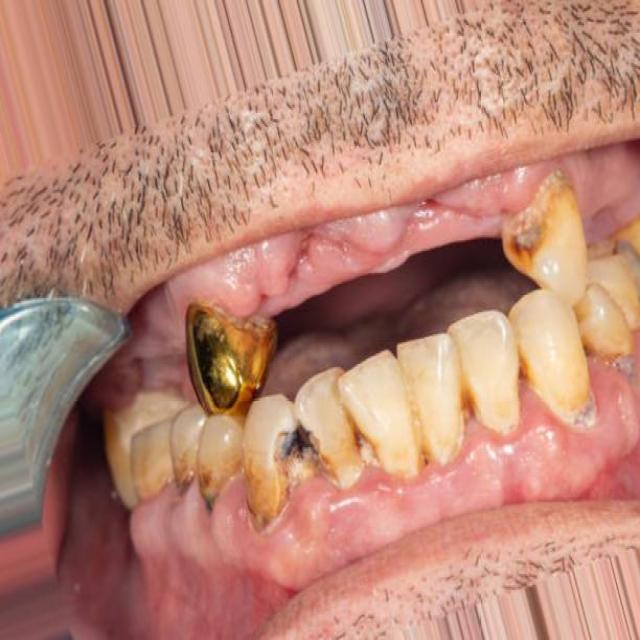caries: (256, 414, 333, 509), (510, 218, 552, 276), (193, 459, 225, 528), (168, 454, 198, 504)
